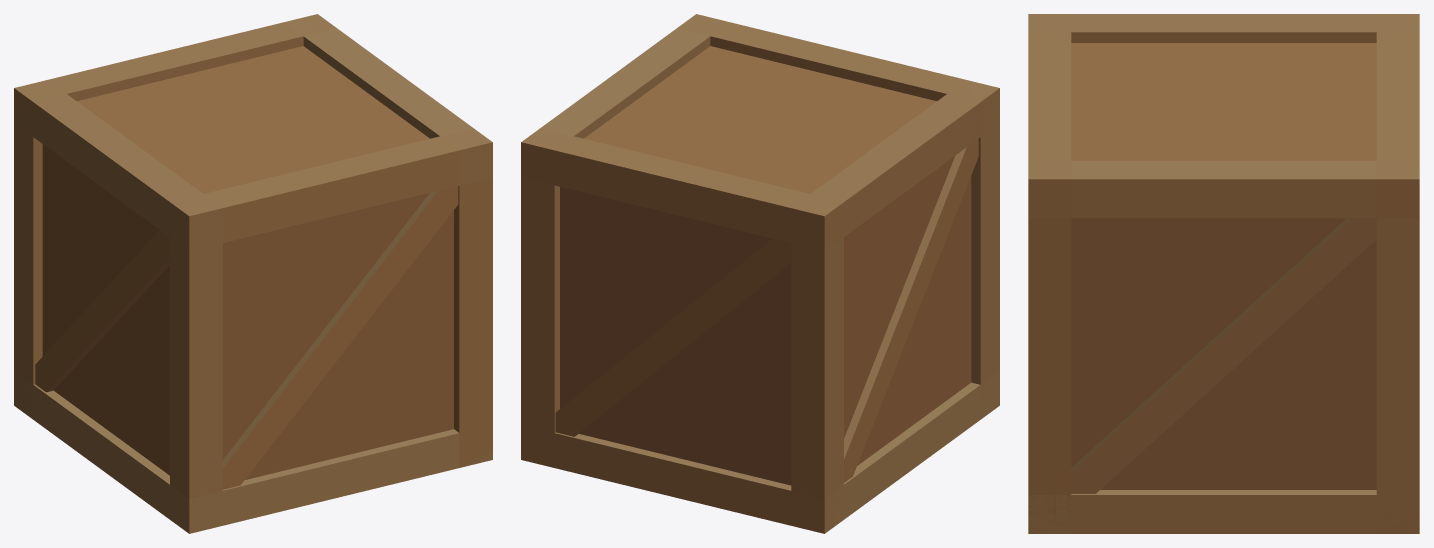
Rendered from crate.glb.
3 renders of one model, left to right at view 1: azimuth 30°, elevation 25°; view 2: azimuth 150°, elevation 25°; view 3: azimuth 270°, elevation 25°, orthographic. The views are drawn at different scales.
Visible parts, largest first — view 1: crate; view 2: crate; view 3: crate.
Part boxes in pixels (x1=…): crate: x1=14, y1=14, x2=492, y2=533; crate: x1=521, y1=14, x2=999, y2=533; crate: x1=1028, y1=14, x2=1419, y2=533.
Size of the model in its own units: 0.8173 by 0.8173 by 0.8173.
